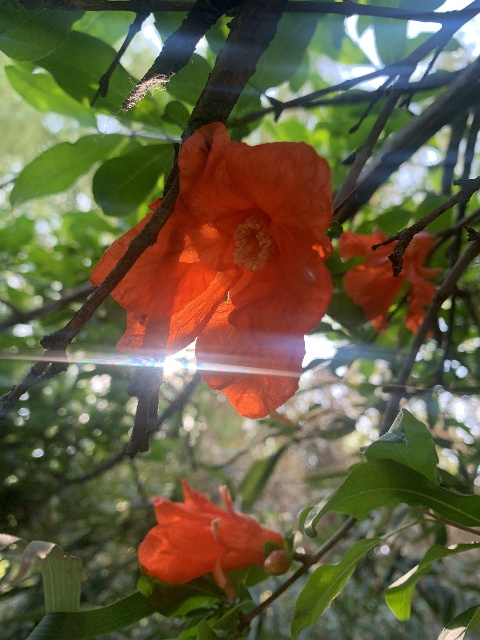bud: (263, 549, 291, 576)
flower: (89, 117, 335, 419), (137, 477, 286, 601), (336, 227, 443, 336)
